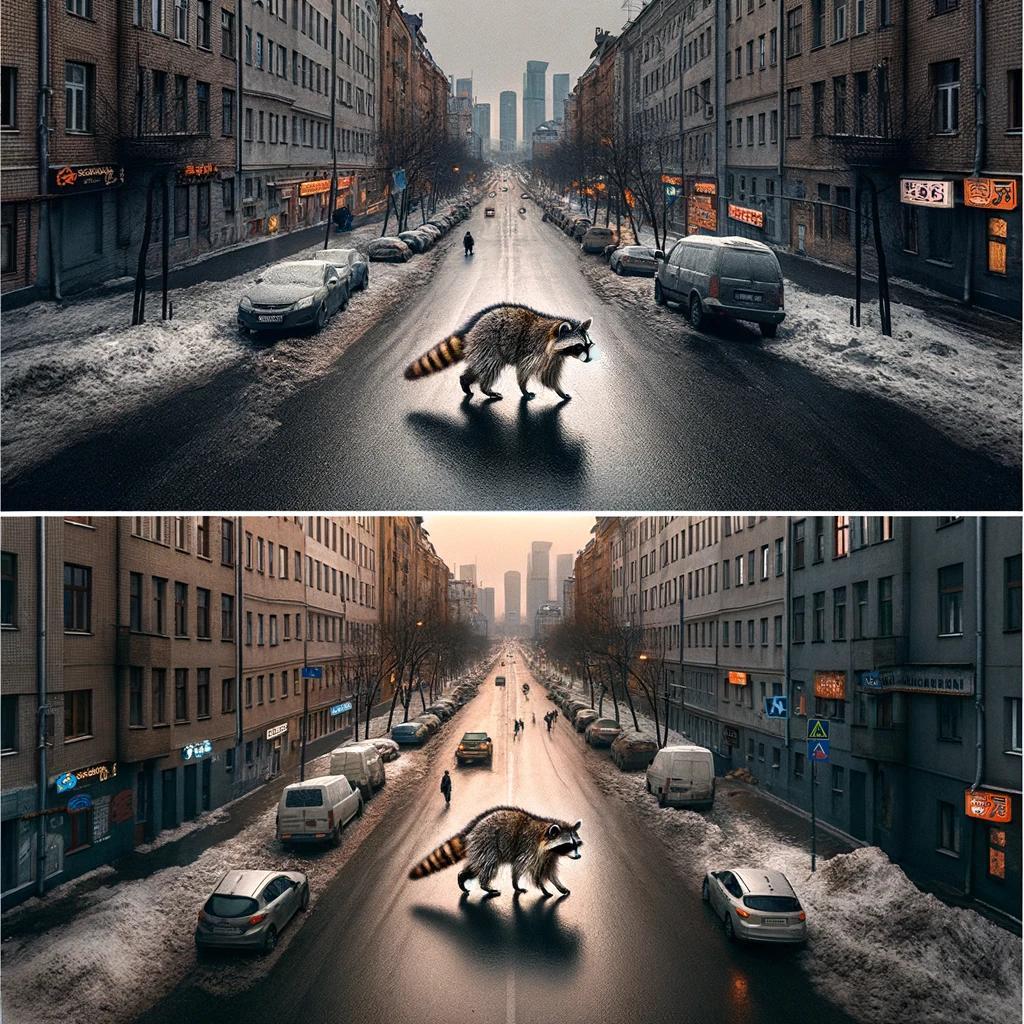raccoon: (397, 290, 605, 402), (403, 798, 593, 897)
